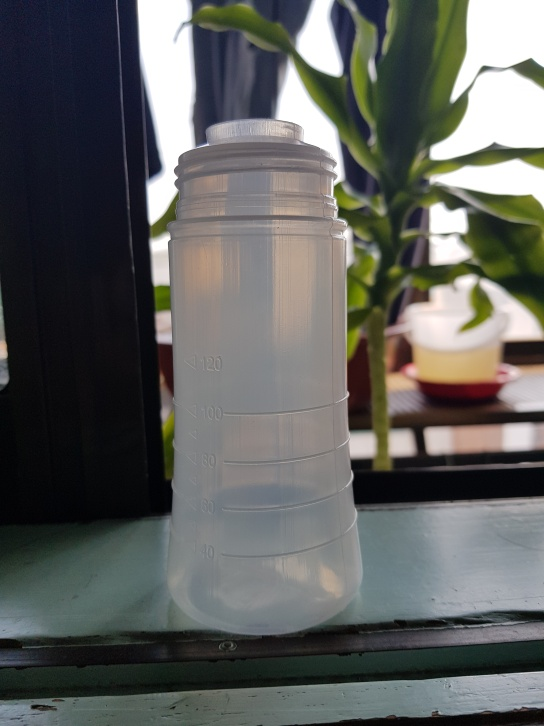Plastic: (165, 115, 365, 641)
